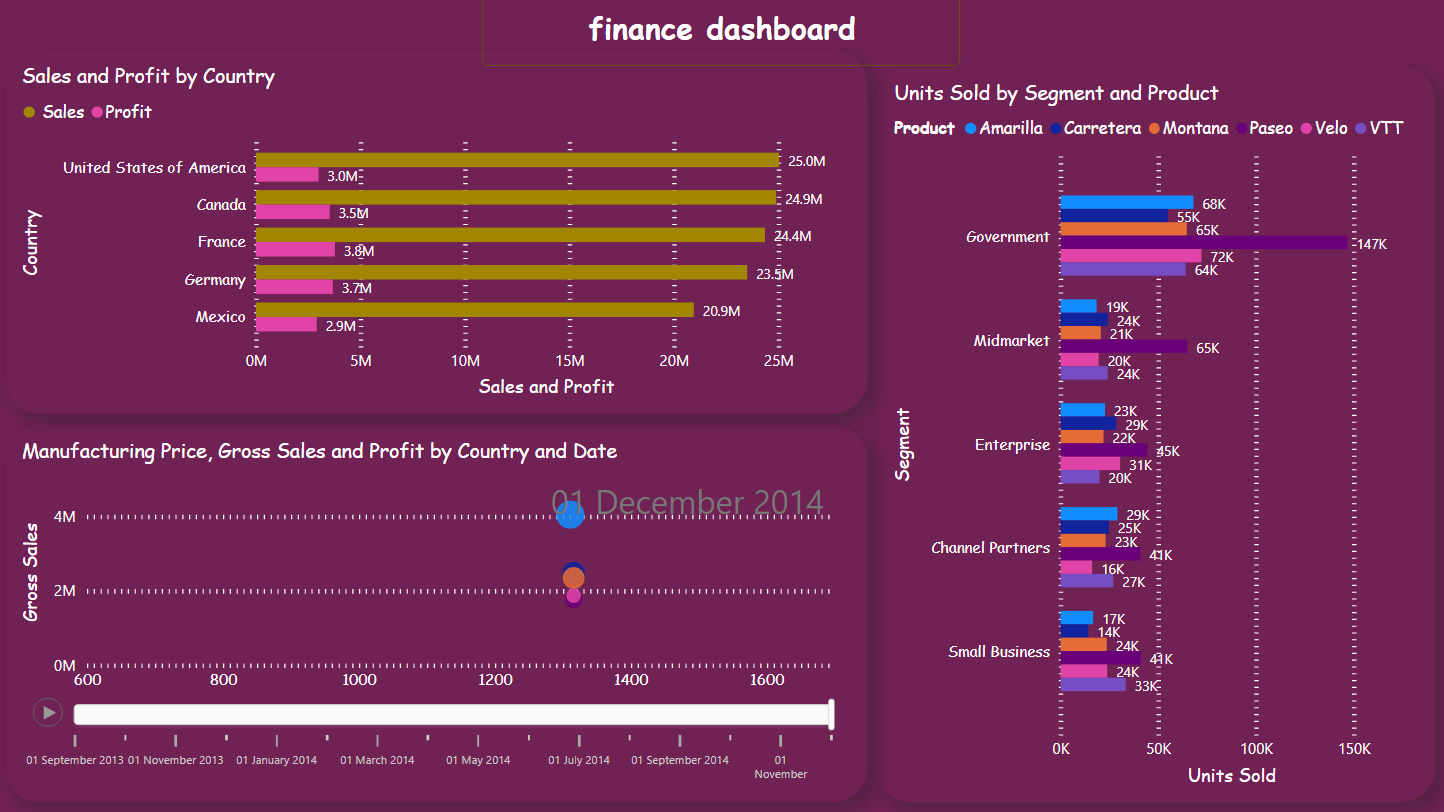

Layout of this report page (visuals, bound fields, positions):
{"tool":"powerbi","page":{"name":"finance","canvas":[1280,720],"ordinal":0},"visuals":[{"type":"textbox","box":[429.4,0,421.2,61.7],"z":0},{"type":"clusteredBarChart","fields":{"Category":["financials.Country"],"Y":["Sum(financials. Sales)","Sum(financials.Profit)"]},"box":[8.1,47.7,761,321.2],"z":1000},{"type":"clusteredBarChart","fields":{"Category":["financials.Segment"],"Y":["Sum(financials.Units Sold)"],"Series":["financials.Product"]},"box":[777.3,61.7,492.2,649.3],"z":2000},{"type":"scatterChart","fields":{"Category":["financials.Country"],"X":["Sum(financials.Manufacturing Price)"],"Y":["Sum(financials.Gross Sales)"],"Play":["financials.Date"],"Size":["Sum(financials.Profit)"]},"box":[8.1,378.2,761,332.8],"z":3000}]}

Visuals, with their boxes in screenshot pixels (x1, y1, x2, y2), scaled from the page's 1280x720 canvas onto the 1444x812 screenshot:
textbox: (484, 0, 960, 70)
clusteredBarChart - financials.Country x Sum(financials. Sales): (9, 54, 868, 416)
clusteredBarChart - financials.Segment x Sum(financials.Units Sold): (877, 70, 1432, 802)
scatterChart - financials.Country x Sum(financials.Manufacturing Price): (9, 427, 868, 802)
